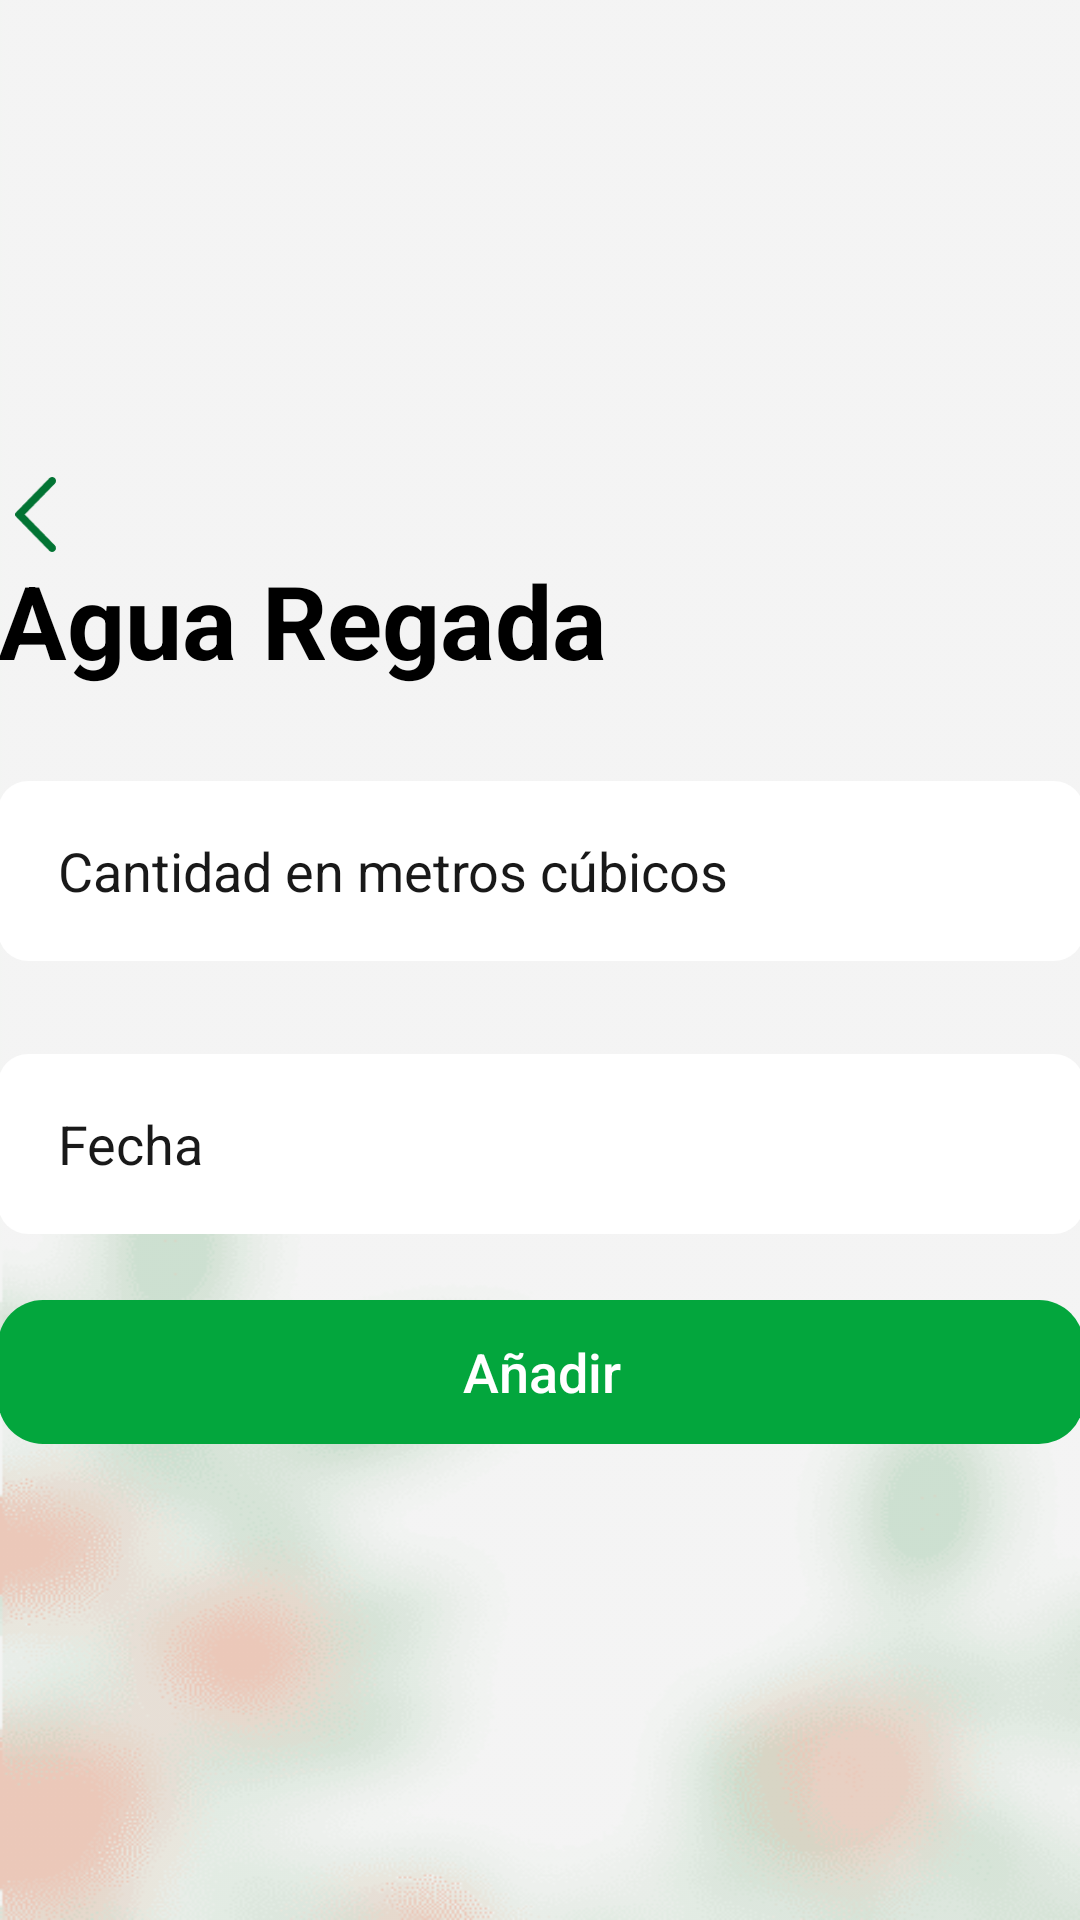

Locate icon controls on the screen. Image size 1080w x 1920h, boxes as BBox(x1, y1, x2, y2).
volver: BBox(15, 477, 56, 552)
